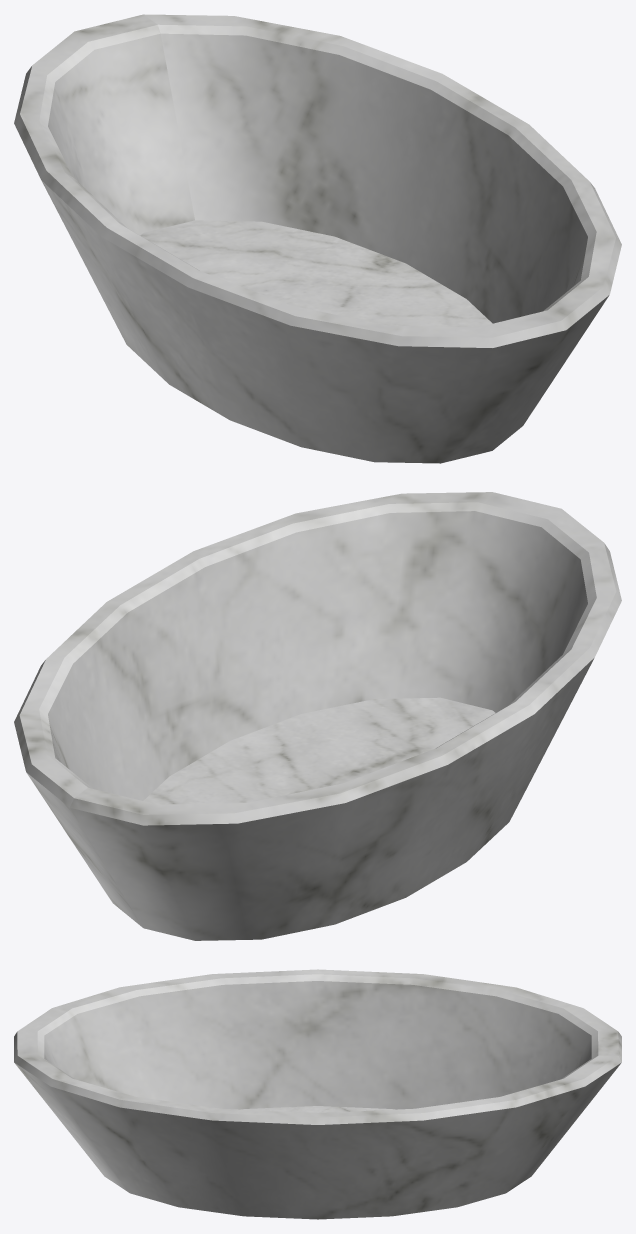
The model's file is Bathtub.fbx.
The picture shows the model from 3 angles, top to bottom: view 1: azimuth 30°, elevation 25°; view 2: azimuth 150°, elevation 25°; view 3: azimuth 270°, elevation 25°; orthographic projection. The views are drawn at different scales.
Visible parts, largest first — view 1: Bathtub; view 2: Bathtub; view 3: Bathtub.
Part boxes in pixels (left/top/right/bottom): Bathtub: left=14, top=14, right=621, bottom=463; Bathtub: left=14, top=492, right=621, bottom=940; Bathtub: left=14, top=969, right=621, bottom=1219.
Bounding box in the file's own units: 1.49 × 0.5648 × 2.51.
